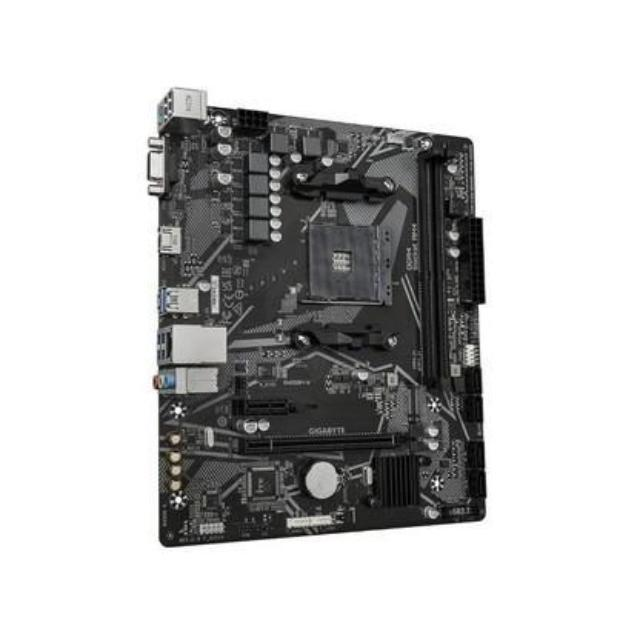Mainboard: (146, 95, 494, 552)
